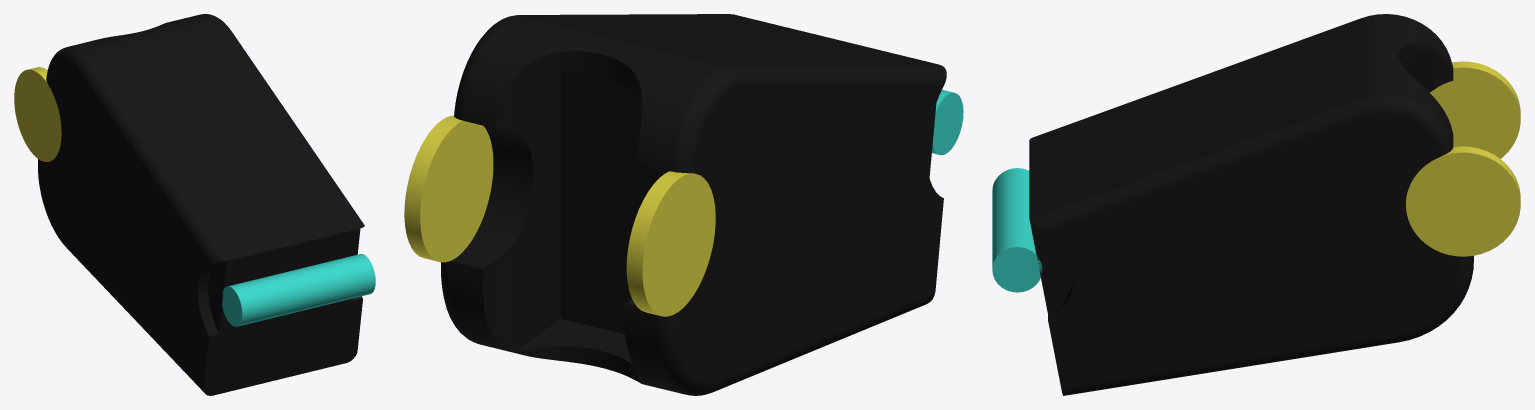
The model's file is calf_dexter.obj.
The picture shows the model from 3 angles, left to right: view 1: azimuth 30°, elevation 25°; view 2: azimuth 150°, elevation 25°; view 3: azimuth 270°, elevation 25°; orthographic projection. The views are drawn at different scales.
Parts seen in each view (by area): view 1: Body7, Body2, Body3, Body4; view 2: Body2, Body7, Body4, Body5, Body3; view 3: Body7, Body2, Body5, Body4, Body3.
Part boxes in pixels (x1,y1,x2,y2): Body7: (112, 94, 364, 395); Body2: (38, 14, 275, 296); Body3: (221, 254, 375, 326); Body4: (14, 67, 61, 161); Body2: (441, 14, 812, 395); Body7: (589, 14, 946, 361); Body4: (626, 171, 715, 316); Body5: (404, 115, 493, 262); Body3: (932, 89, 963, 155); Body7: (1029, 58, 1283, 395); Body2: (1252, 14, 1473, 360); Body5: (1406, 146, 1520, 256); Body4: (1430, 61, 1520, 158); Body3: (992, 168, 1042, 292).
Size of the model in its own units: 0.15 by 0.2307 by 0.3677.
